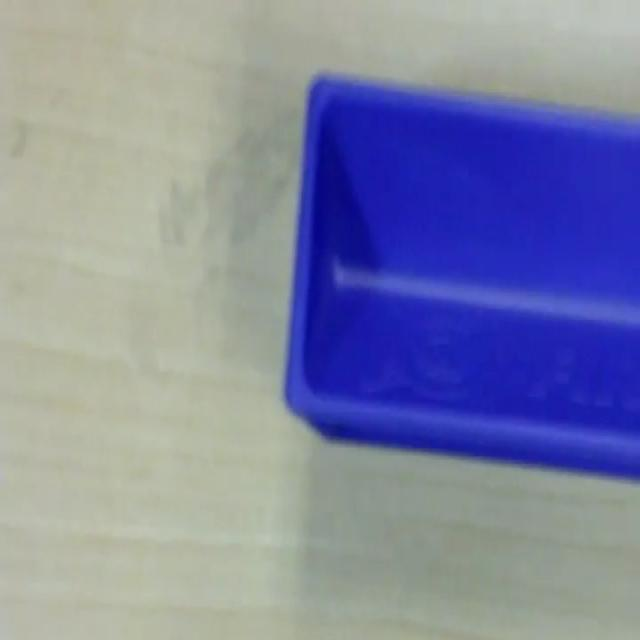blue_block: (282, 68, 639, 479)
